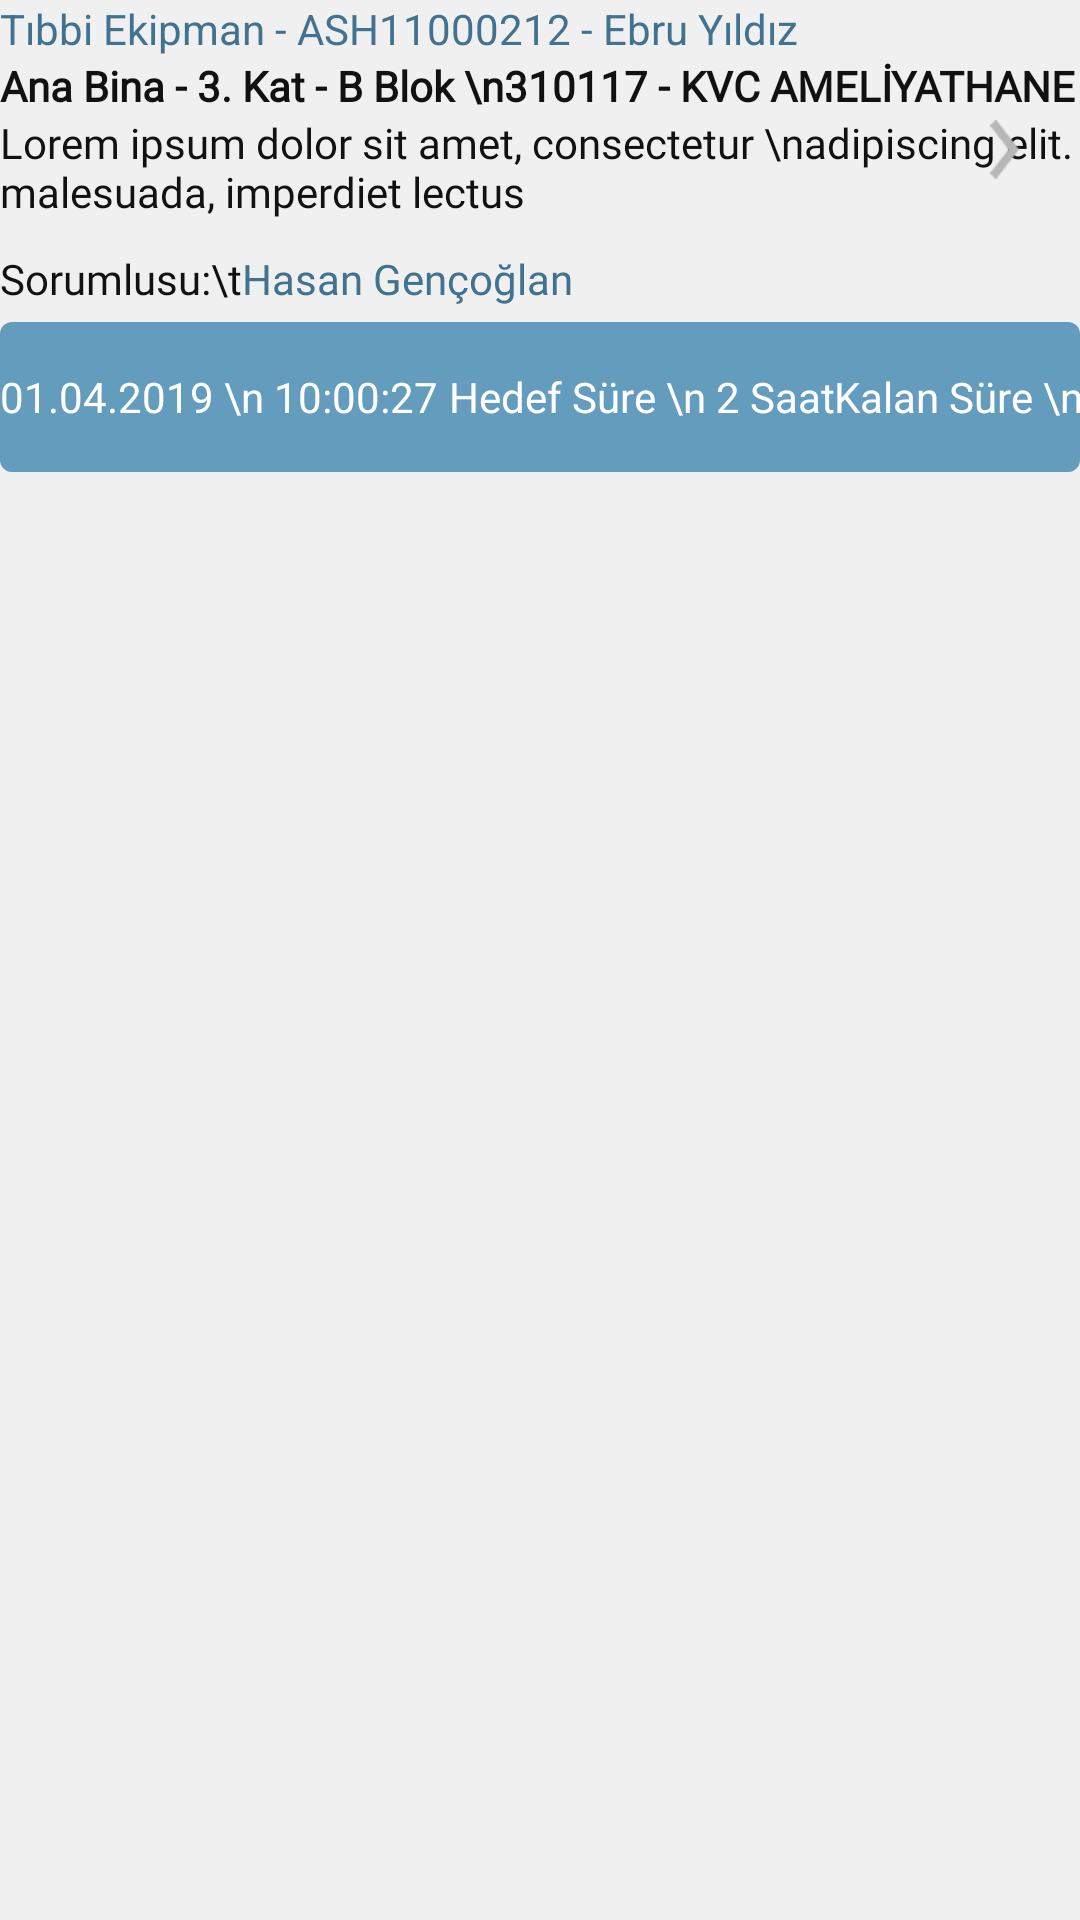

Where to tap for icons on this 1080w x 1920h app screen, as (x,y):
righticon: (1005,149)
